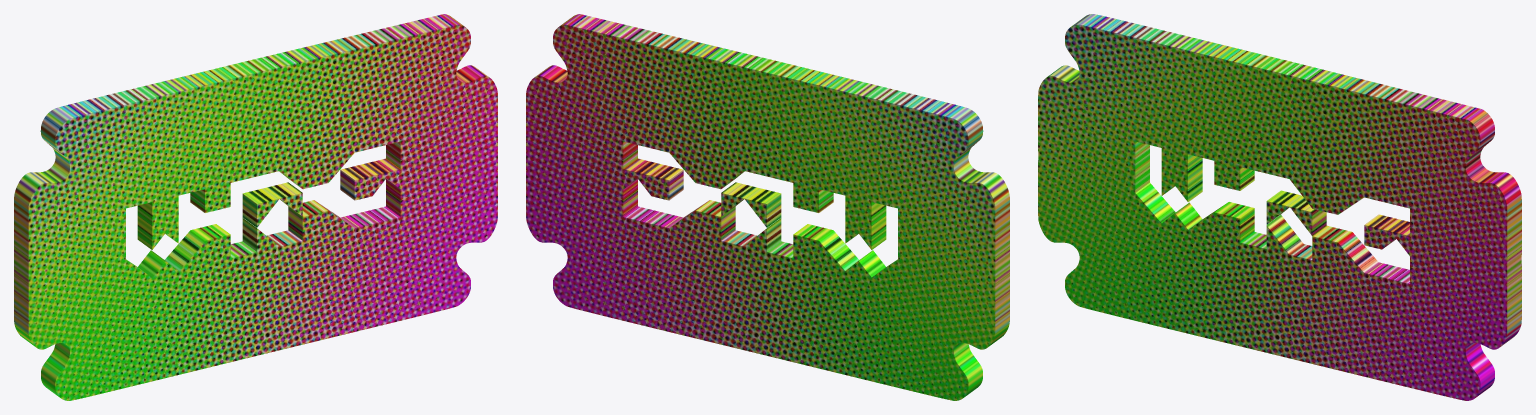
File: dotted-rainbow-halftone.glb
3 views of the same model, side by side, from view 1: azimuth 30°, elevation 25°; view 2: azimuth 150°, elevation 25°; view 3: azimuth 330°, elevation 25° (orthographic).
Parts seen in each view (by area): view 1: Razor; view 2: Razor; view 3: Razor.
Boxes of the visible parts, x1,y1,x2,y2 form: Razor: (14,14,497,400); Razor: (526,14,1009,400); Razor: (1038,14,1521,400).
Bounding box in the file's own units: 0.5609 × 0.3234 × 0.03.
Materials: 1 (1 with a texture image).
